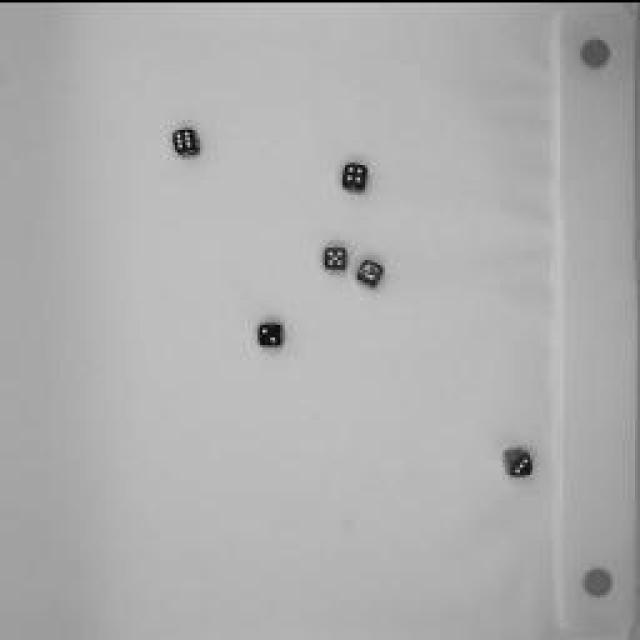dice_2: (352, 255, 388, 295), (254, 316, 288, 352)
dice_3: (499, 442, 536, 480)
dice_4: (335, 155, 375, 195)
dice_5: (318, 237, 352, 275)
dice_6: (167, 122, 205, 162)
